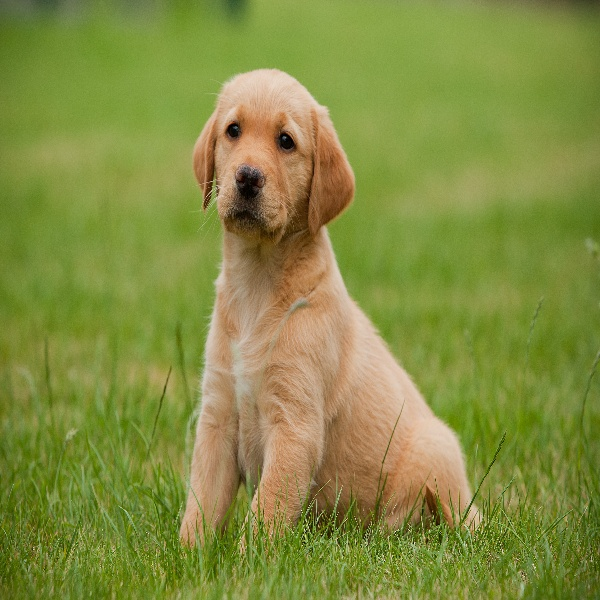dog: (139, 66, 499, 566)
